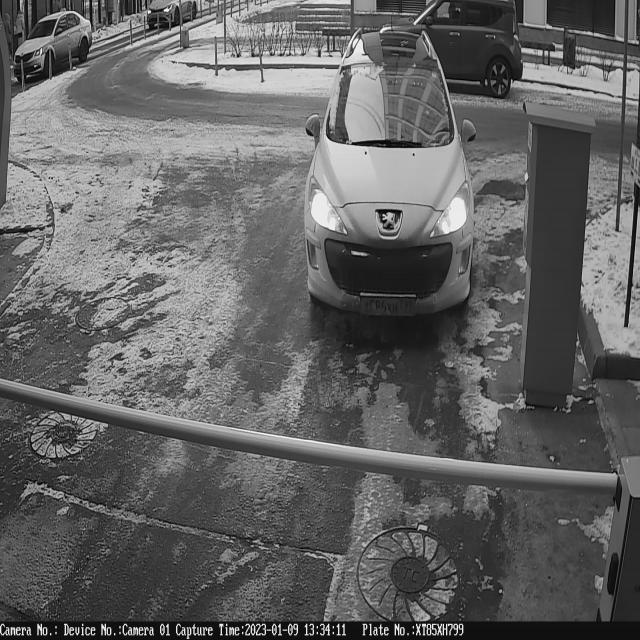car-plate-numbers: (356, 287, 420, 322)
